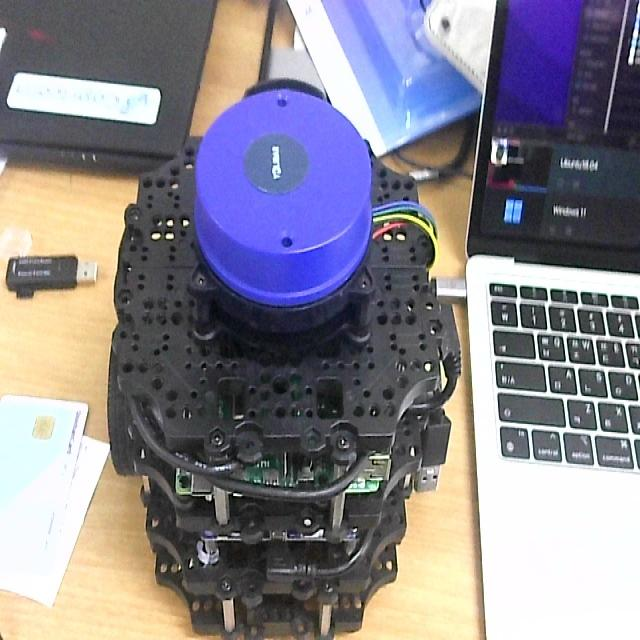turtle: (104, 80, 464, 640)
